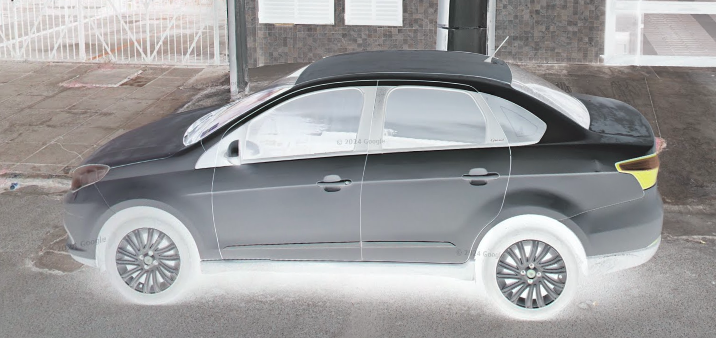car: (60, 49, 673, 319)
